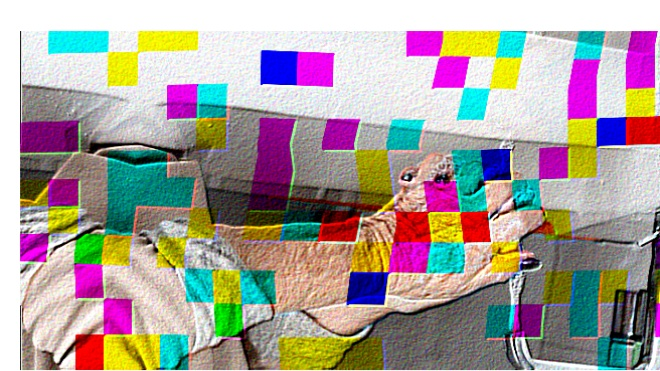washing hand: (342, 129, 624, 370)
